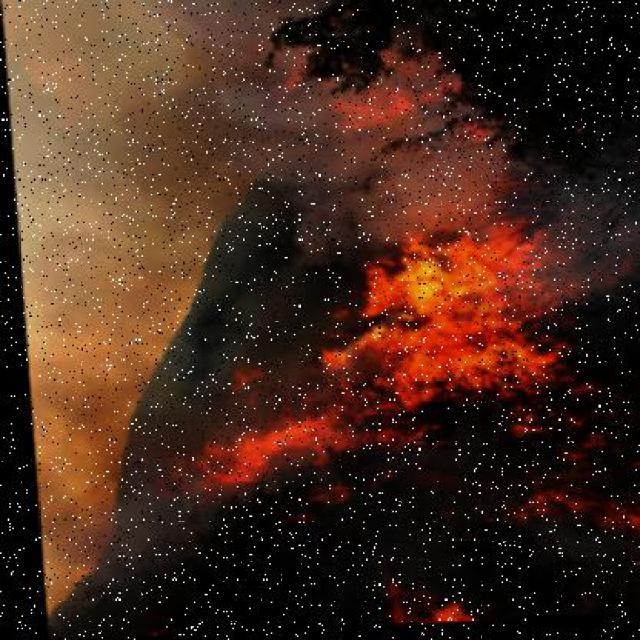fire: (346, 249, 578, 472)
